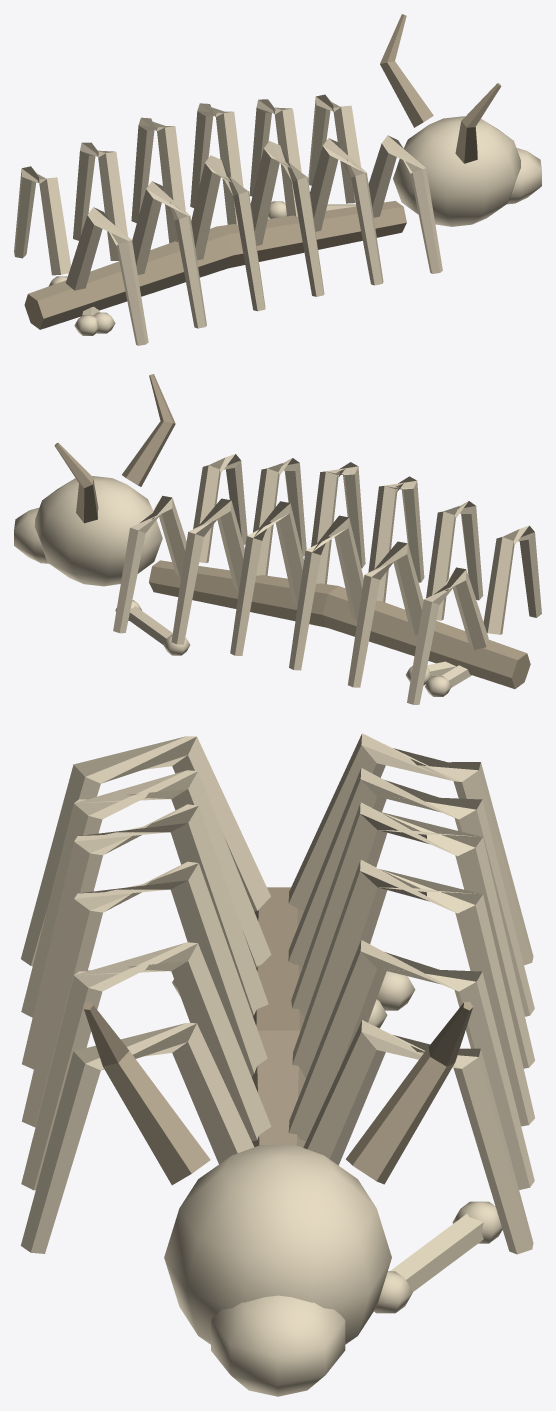
The model's file is Bones.fbx.
The picture shows the model from 3 angles, top to bottom: view 1: azimuth 30°, elevation 25°; view 2: azimuth 150°, elevation 25°; view 3: azimuth 270°, elevation 25°; orthographic projection. The views are drawn at different scales.
Visible parts, largest first — view 1: Frame; view 2: Frame; view 3: Frame.
Part boxes in pixels (left/top/right/bottom): Frame: left=14, top=14, right=541, bottom=345; Frame: left=14, top=374, right=541, bottom=704; Frame: left=20, top=733, right=534, bottom=1396.
Size of the model in its own units: 4.32 by 1.46 by 1.9.
Materials: 1 (1 with a texture image).
